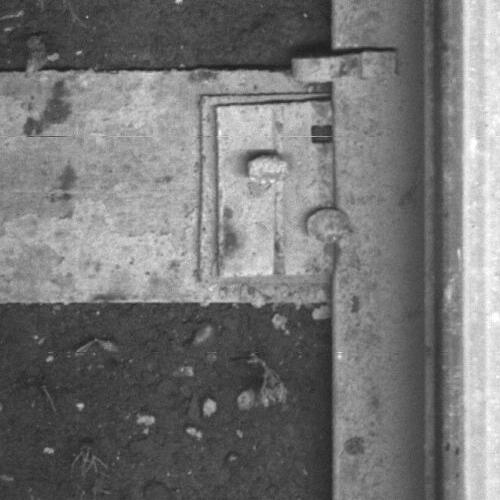crutch: (289, 48, 400, 84)
do: (214, 99, 353, 278)
hole_do: (300, 114, 344, 156)
rail: (448, 1, 500, 500)
tie_wood: (1, 70, 332, 302)
